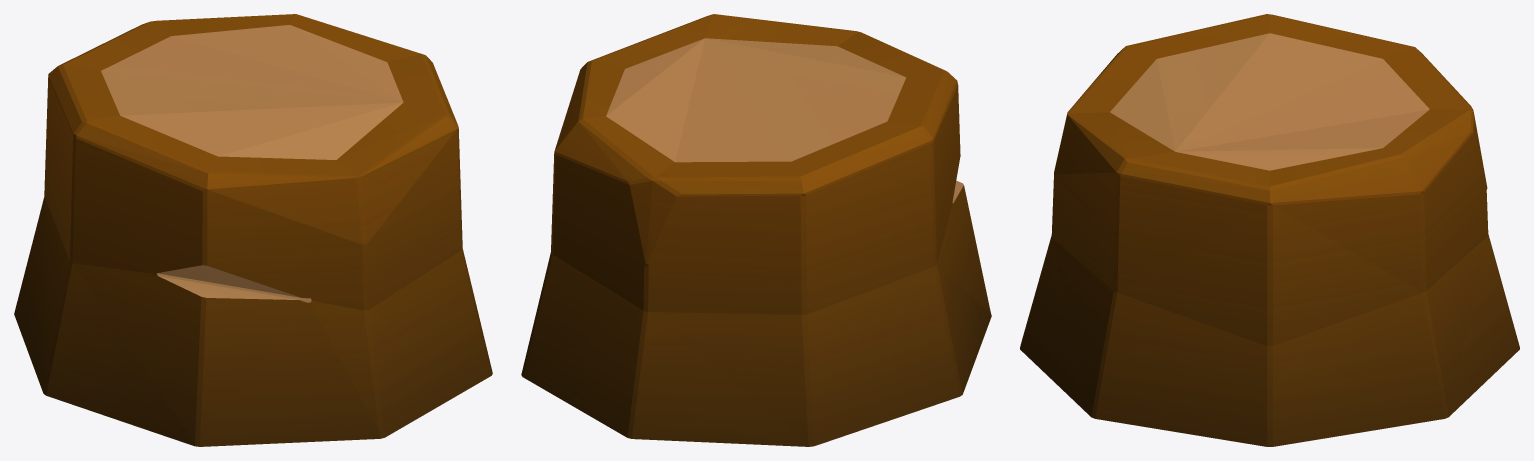
The model's file is stump_short.glb.
The picture shows the model from 3 angles, left to right: view 1: azimuth 30°, elevation 25°; view 2: azimuth 150°, elevation 25°; view 3: azimuth 270°, elevation 25°; orthographic projection. The views are drawn at different scales.
Parts seen in each view (by area): view 1: TreeTrunk_1_1_A; view 2: TreeTrunk_1_1_A; view 3: TreeTrunk_1_1_A.
Boxes of the visible parts, x1,y1,x2,y2 form: TreeTrunk_1_1_A: [14, 14, 492, 446]; TreeTrunk_1_1_A: [521, 14, 991, 446]; TreeTrunk_1_1_A: [1020, 14, 1519, 446].
Size of the model in its own units: 1.03 by 0.623 by 1.11.
1 material, 1 textured.
